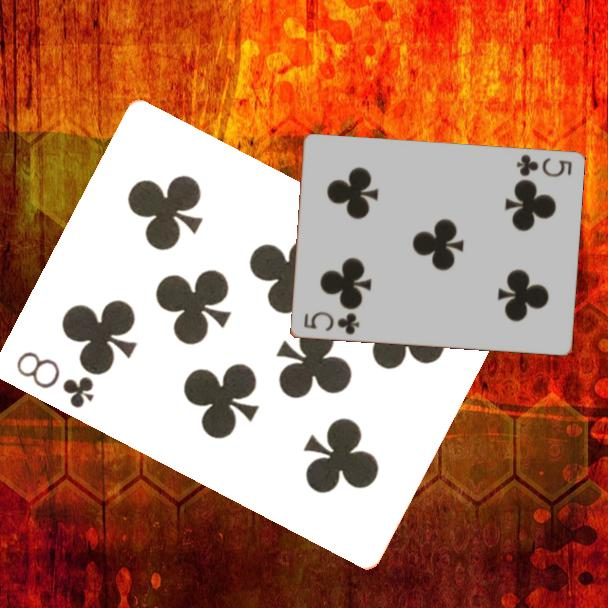c05: (300, 308, 362, 338), (513, 151, 575, 180)
c08: (12, 348, 97, 412)
